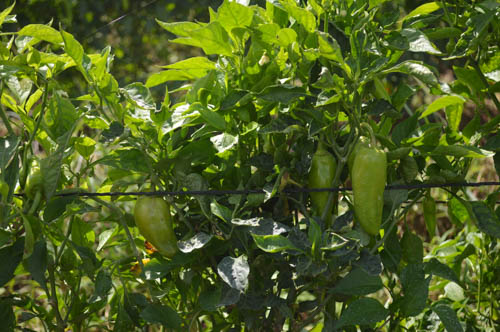ChiliPepper: (347, 148, 387, 233), (135, 197, 179, 255), (306, 152, 338, 220)
